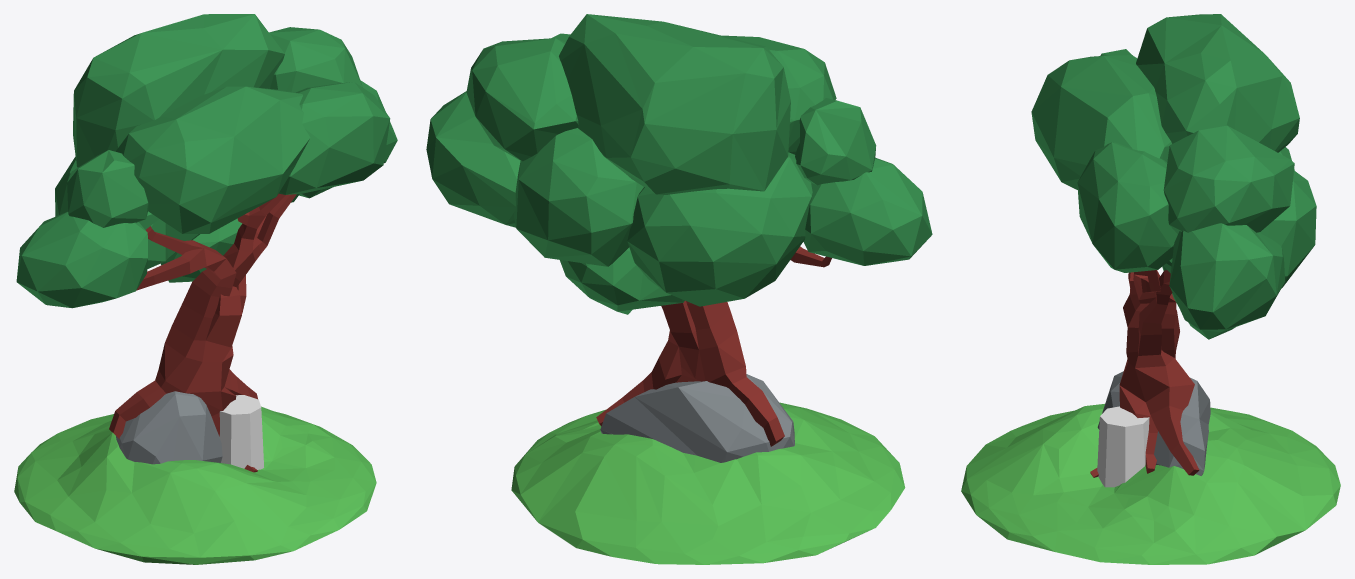
The model's file is floresta_tree_oak_hero_green.glb.
3 renders of one model, left to right at view 1: azimuth 30°, elevation 25°; view 2: azimuth 150°, elevation 25°; view 3: azimuth 270°, elevation 25°, orthographic. The views are drawn at different scales.
Parts seen in each view (by area): view 1: Oak hero green f, Colisao; view 2: Oak hero green f; view 3: Oak hero green f, Colisao.
Part boxes in pixels (box(x1,y1,x2,y2)): Oak hero green f: box(14, 14, 397, 564); Colisao: box(219, 395, 263, 469); Oak hero green f: box(426, 14, 932, 564); Oak hero green f: box(961, 14, 1340, 564); Colisao: box(1097, 406, 1149, 487).
Bounding box in the file's own units: 16.12 × 16.31 × 12.3.
